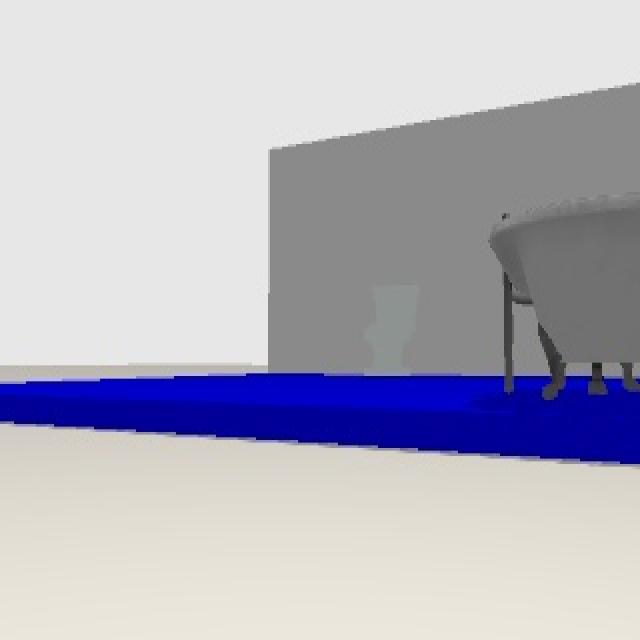bathtub: (488, 203, 638, 400)
